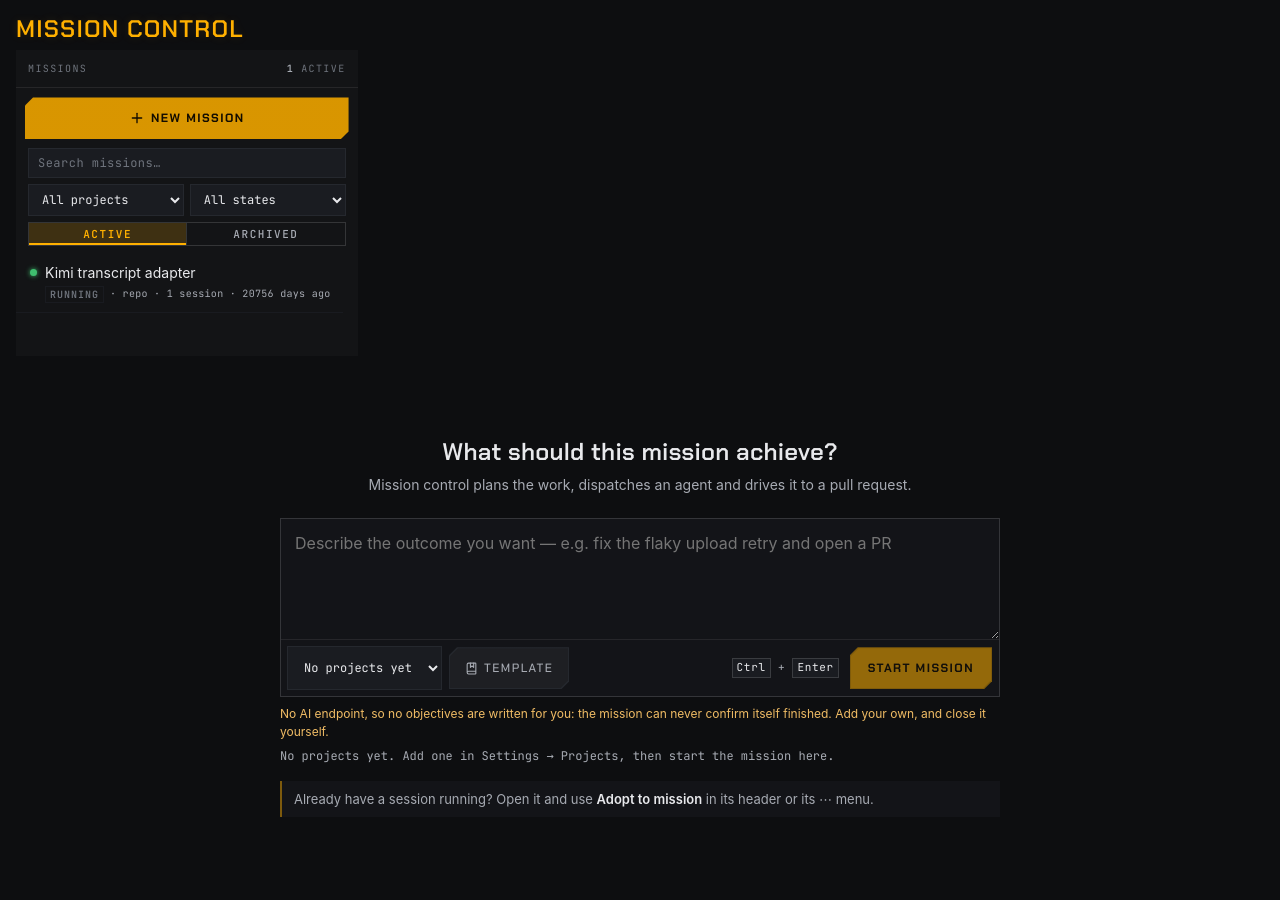
Test case: a mission's own decision renders in its thread (#840 §15)
Expected: the element with test id "mission-landing" is shown, [280,436,1000,817]
Expected: the text "Tests were not run." is not shown
Click the text "Kimi transcript adapter" at (120, 273), box [45,264,196,281]
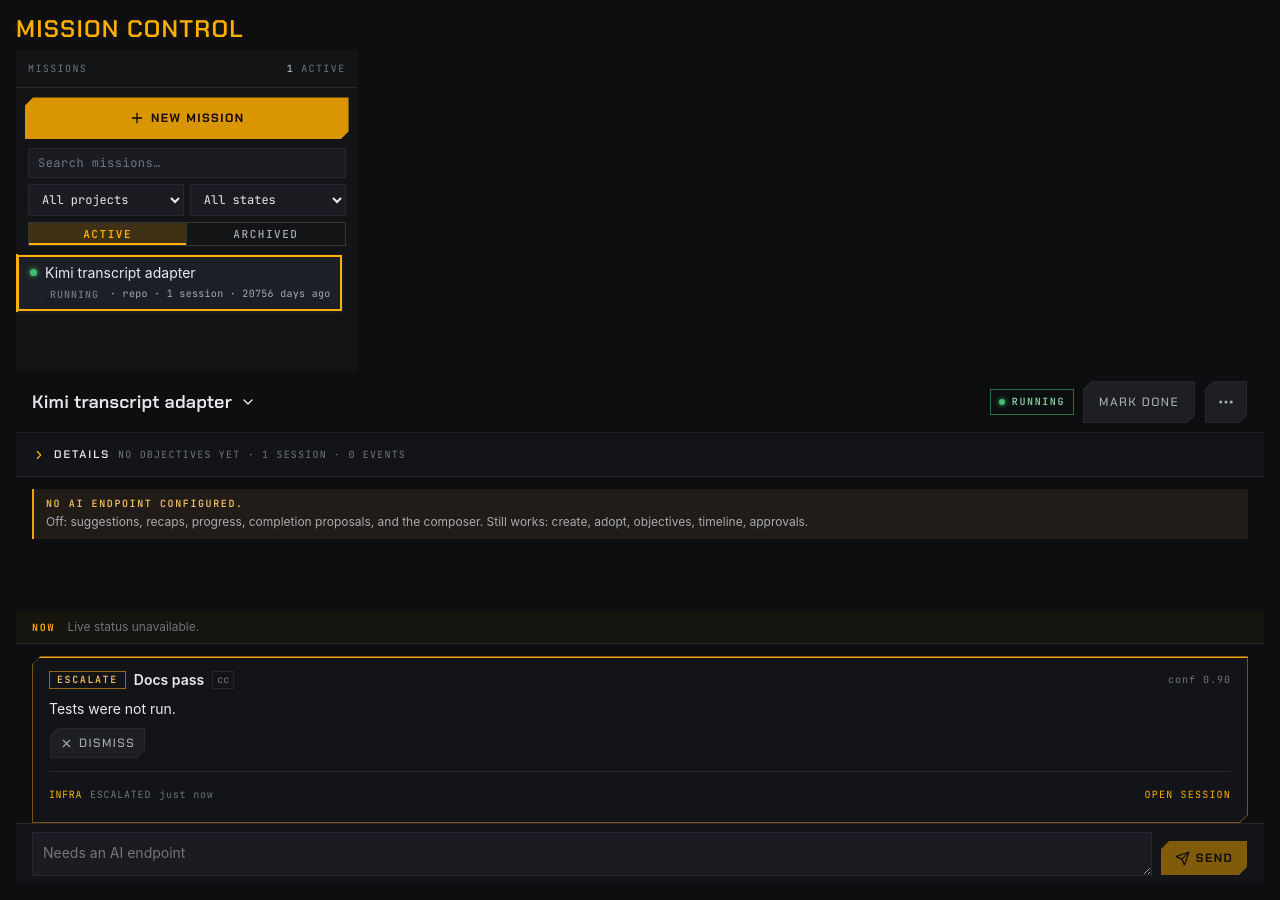
Result: the text "Tests were not run." is shown at [49,700,176,717]
